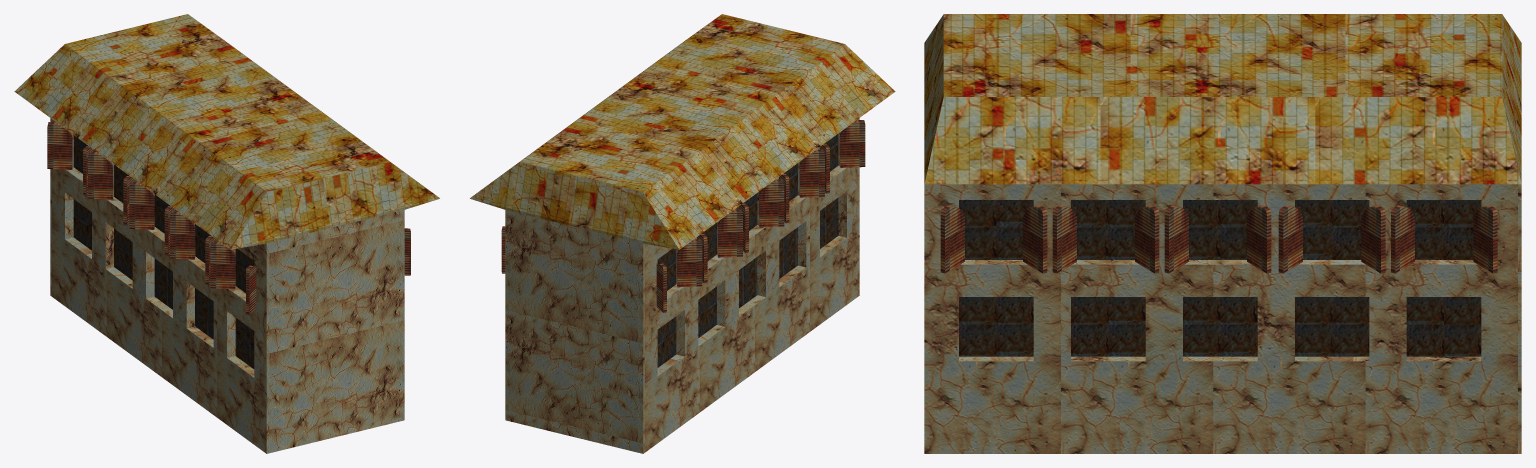
Rendered from 建物長屋.fbx.
3 views of the same model, side by side, from view 1: azimuth 30°, elevation 25°; view 2: azimuth 150°, elevation 25°; view 3: azimuth 270°, elevation 25° (orthographic). The views are drawn at different scales.
Visible parts, largest first — view 1: 建物A, 建物A.022, 建物A.021, 建物A.010, 建物A.001, 建物A.008, 建物A.005, 建物A.004, 建物A.009; view 2: 建物A, 建物A.022, 建物A.021, 建物A.007, 建物A.002, 建物A.009, 建物A.006, 建物A.003, 建物A.001; view 3: 建物A, 建物A.022, 建物A.021, 建物A.018, 建物A.016, 建物A.014, 建物A.012, 建物A.015, 建物A.013, 建物A.011, 建物A.020, 建物A.017 (+1 smaller).
Boxes of the visible parts, left/top/right/bottom form: 建物A: left=50, top=118, right=404, bottom=453; 建物A.022: left=14, top=14, right=439, bottom=249; 建物A.021: left=73, top=135, right=254, bottom=368; 建物A.010: left=210, top=241, right=235, bottom=289; 建物A.001: left=47, top=122, right=72, bottom=169; 建物A.008: left=129, top=182, right=154, bottom=229; 建物A.005: left=170, top=211, right=195, bottom=259; 建物A.004: left=88, top=151, right=113, bottom=199; 建物A.009: left=246, top=265, right=256, bottom=314; 建物A: left=505, top=118, right=859, bottom=453; 建物A.022: left=470, top=14, right=895, bottom=249; 建物A.021: left=657, top=134, right=838, bottom=367; 建物A.007: left=759, top=179, right=784, bottom=227; 建物A.002: left=677, top=239, right=702, bottom=287; 建物A.009: left=840, top=120, right=865, bottom=167; 建物A.006: left=799, top=149, right=824, bottom=197; 建物A.003: left=717, top=209, right=742, bottom=257; 建物A.001: left=656, top=263, right=666, bottom=312; 建物A: left=924, top=184, right=1521, bottom=453; 建物A.022: left=924, top=14, right=1521, bottom=184; 建物A.021: left=959, top=200, right=1481, bottom=356; 建物A.018: left=1278, top=205, right=1302, bottom=273; 建物A.016: left=1135, top=205, right=1159, bottom=273; 建物A.014: left=1164, top=205, right=1188, bottom=273; 建物A.012: left=940, top=205, right=964, bottom=273; 建物A.015: left=1052, top=205, right=1076, bottom=273; 建物A.013: left=1247, top=205, right=1271, bottom=273; 建物A.011: left=1023, top=205, right=1047, bottom=273; 建物A.020: left=1473, top=205, right=1497, bottom=273; 建物A.017: left=1361, top=205, right=1385, bottom=273.
Bounding box in the file's own units: 187 × 217 × 333.
4 materials, 4 textured.
